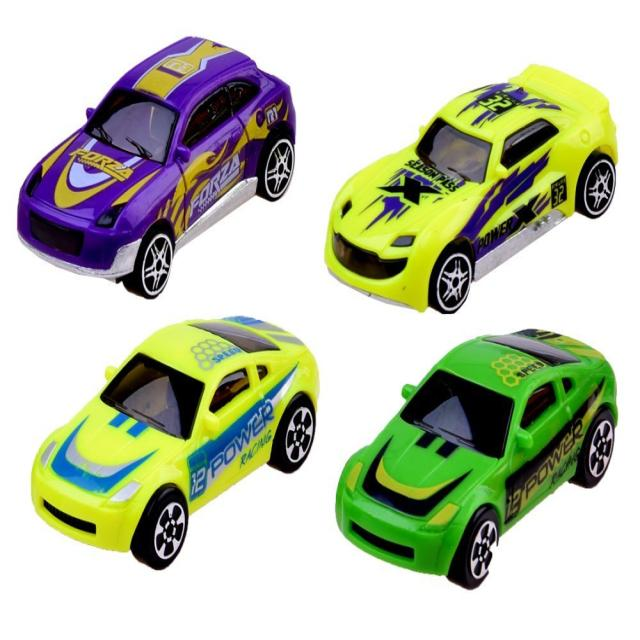Car: (335, 326, 618, 590), (16, 34, 296, 300), (323, 62, 618, 314), (30, 314, 320, 570)
